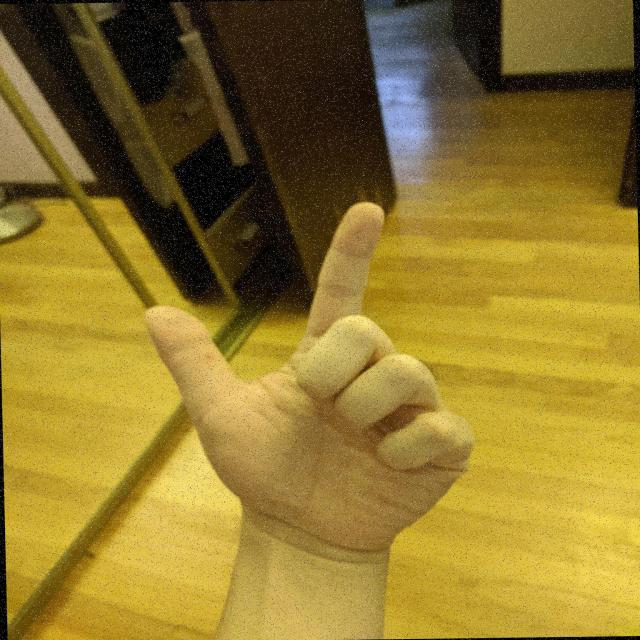L: (134, 194, 488, 553)
